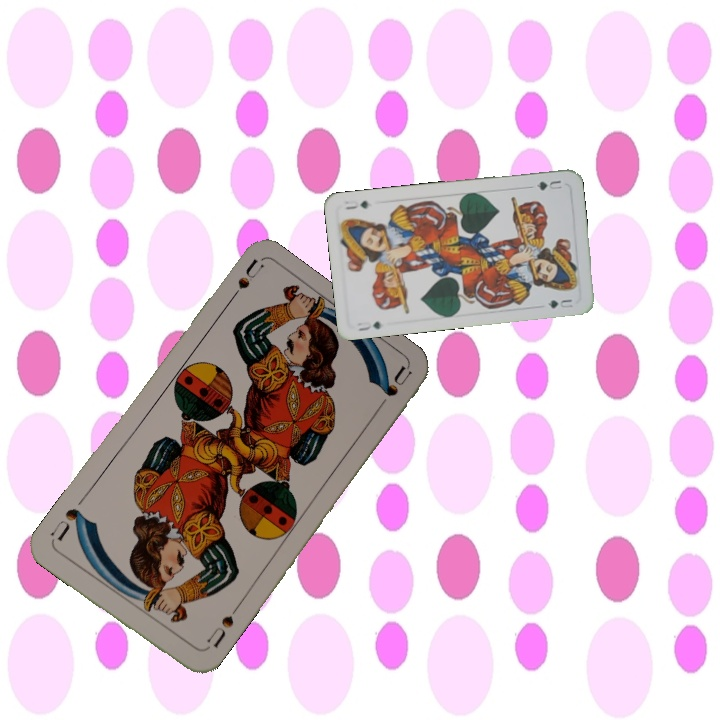GU: (532, 176, 566, 193), (354, 317, 383, 334)
SU: (221, 256, 266, 310), (198, 603, 241, 654)
